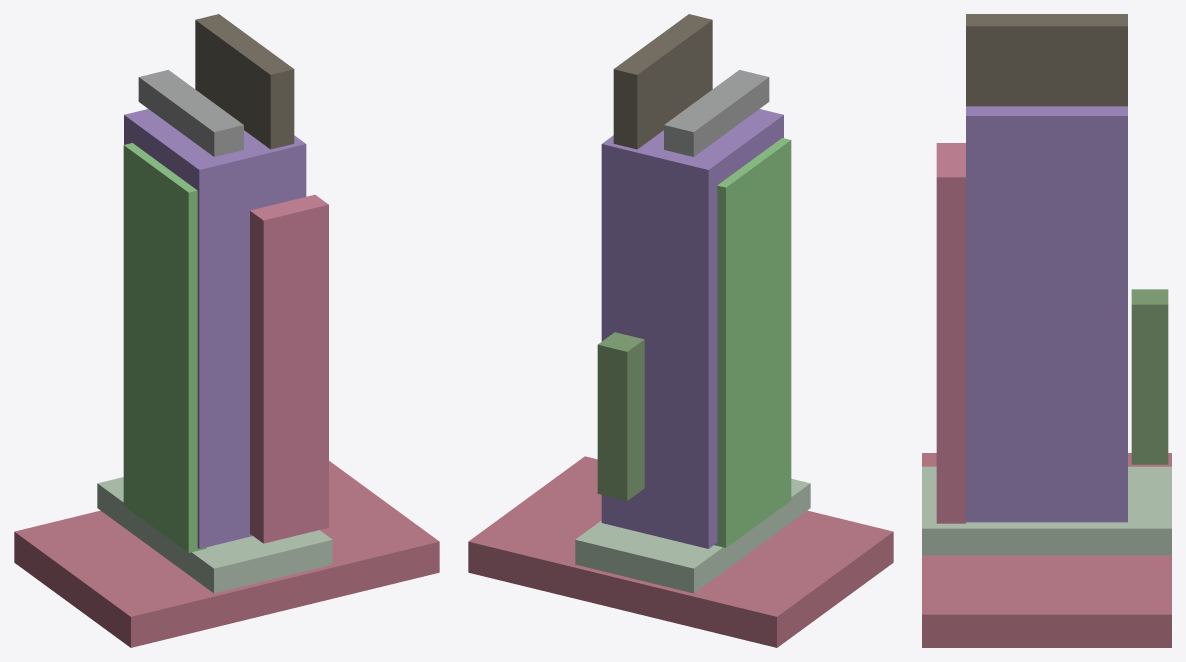
File: 199546_pred.glb
The picture shows the model from 3 angles, left to right: view 1: azimuth 30°, elevation 25°; view 2: azimuth 150°, elevation 25°; view 3: azimuth 270°, elevation 25°; orthographic projection. The views are drawn at different scales.
Parts seen in each view (by area): view 1: world; view 2: world; view 3: world.
Boxes of the visible parts, x1,y1,x2,y2 form: world: (14,14,439,647); world: (468,14,893,647); world: (922,14,1171,647).
Bounding box in the file's own units: 5.2 × 8.35 × 3.4.
